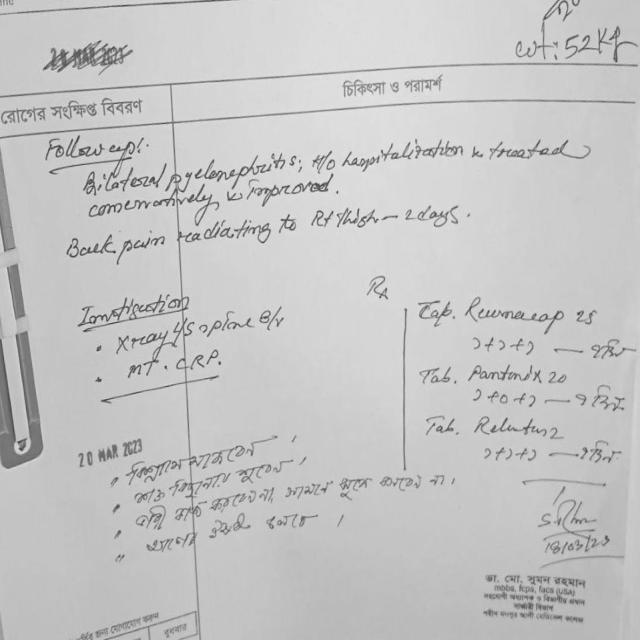medicine: (460, 295, 567, 331), (466, 358, 544, 390), (472, 412, 548, 440)
